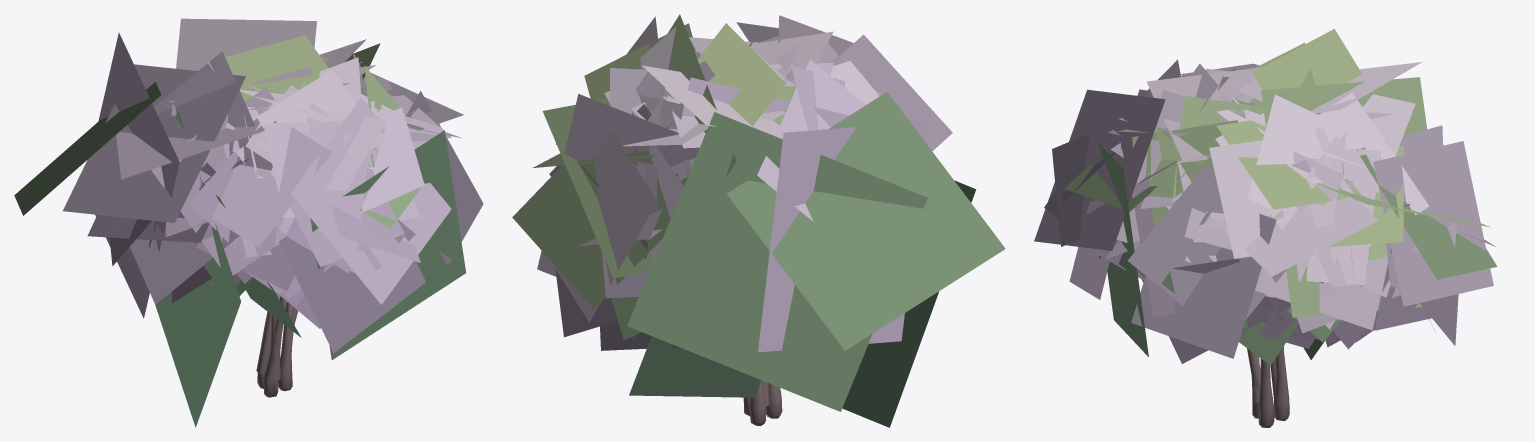
The model's file is lilac_tree_v1.glb.
3 views of the same model, side by side, from view 1: azimuth 30°, elevation 25°; view 2: azimuth 150°, elevation 25°; view 3: azimuth 270°, elevation 25° (orthographic). The views are drawn at different scales.
Visible parts, largest first — view 1: far, near; view 2: far, near; view 3: near, far.
Boxes of the visible parts, x1=… form: far: x1=14, y1=32, x2=465, y2=427; near: x1=128, y1=18, x2=483, y2=397; far: x1=537, y1=14, x2=1005, y2=427; near: x1=512, y1=15, x2=952, y2=425; near: x1=1044, y1=29, x2=1497, y2=427; far: x1=1034, y1=63, x2=1490, y2=402.
Bounding box in the file's own units: 10.31 × 7.97 × 9.45.
